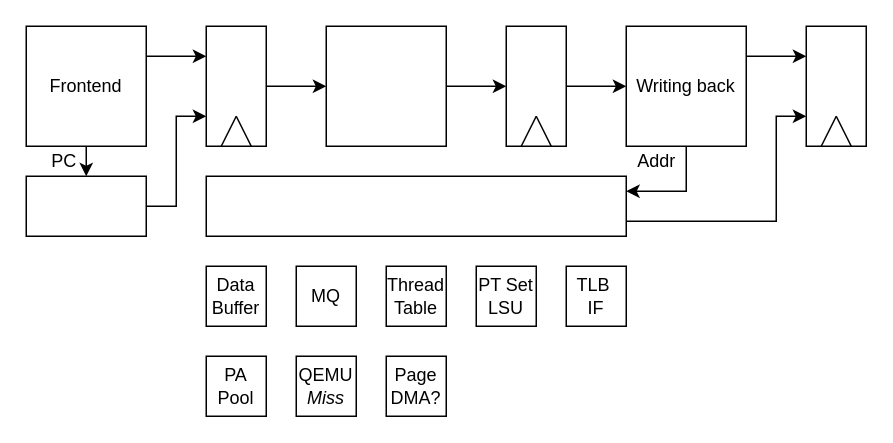
The diagram is 893 pixels wide and 443 high, and some of its shapes have lost their labels. The shapes that lost their labels are listed below. From the top down, each one's centre as x and y in pixels, then its label:
the point at 385,85: Execution
the point at 85,205: Instruction Buffer
the point at 415,205: Bus
